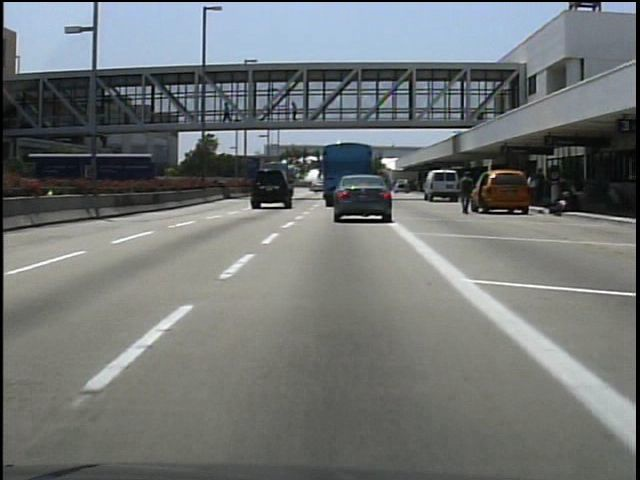person: (456, 169, 478, 220), (289, 100, 303, 128), (220, 98, 235, 123)
